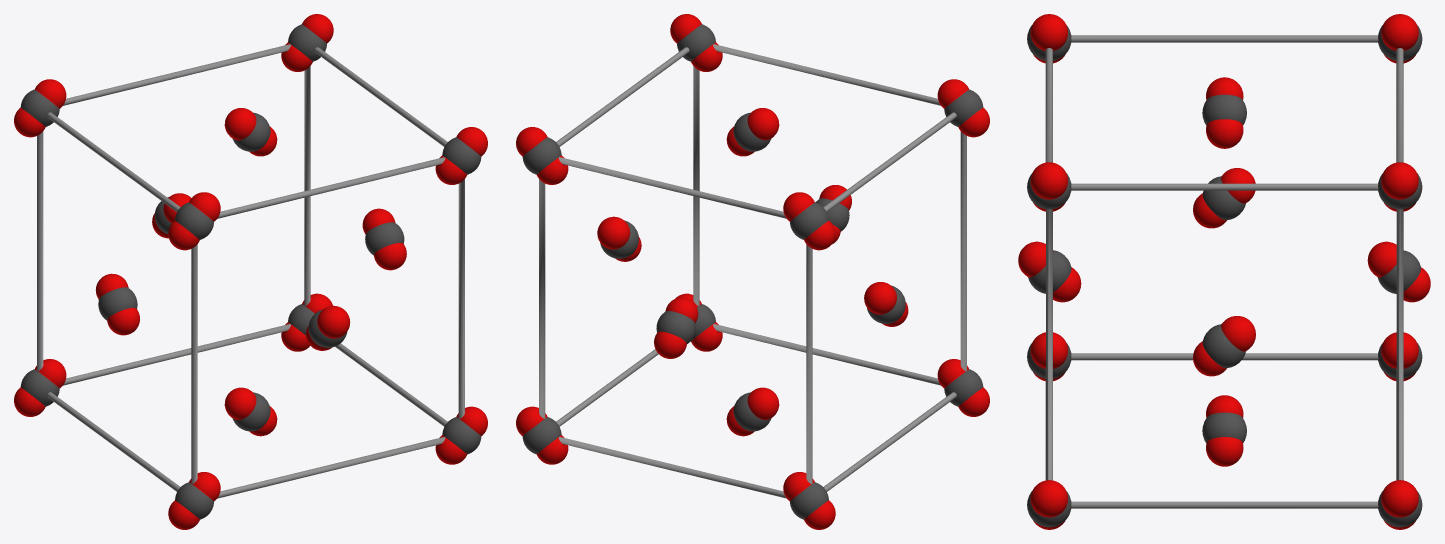
Rendered from ganbing.FBX.
The picture shows the model from 3 angles, left to right: view 1: azimuth 30°, elevation 25°; view 2: azimuth 150°, elevation 25°; view 3: azimuth 270°, elevation 25°; orthographic projection. The views are drawn at different scales.
Visible parts, largest first — view 1: co2g_jingti_one_switch_Btn_bili; view 2: co2g_jingti_one_switch_Btn_bili; view 3: co2g_jingti_one_switch_Btn_bili.
Boxes of the visible parts, x1,y1,x2,y2 form: co2g_jingti_one_switch_Btn_bili: (14, 14, 487, 529); co2g_jingti_one_switch_Btn_bili: (516, 14, 989, 529); co2g_jingti_one_switch_Btn_bili: (1018, 14, 1430, 529).
Bounding box in the file's own units: 39 × 39.01 × 38.89.
